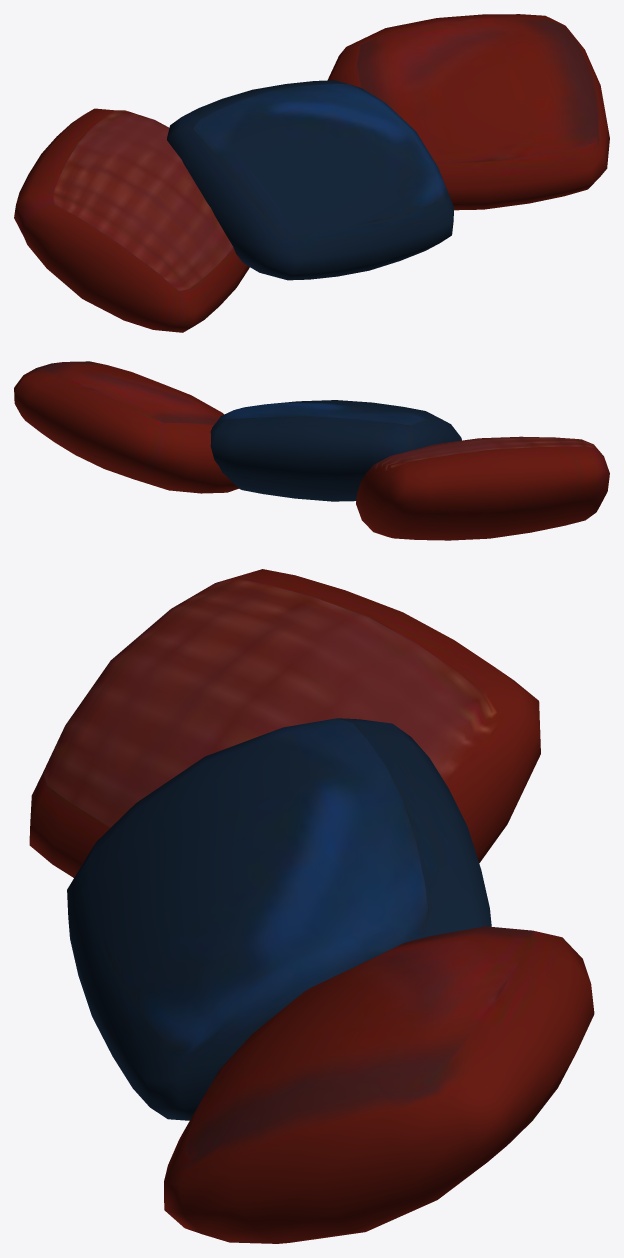
The model's file is phillows.glb.
3 renders of one model, top to bottom at view 1: azimuth 30°, elevation 25°; view 2: azimuth 150°, elevation 25°; view 3: azimuth 270°, elevation 25°, orthographic. The views are drawn at different scales.
Parts seen in each view (by area): view 1: pillow_below.001; view 2: pillow_below.001; view 3: pillow_below.001.
Boxes of the visible parts, x1=… form: pillow_below.001: x1=14, y1=14, x2=609, y2=332; pillow_below.001: x1=14, y1=361, x2=609, y2=540; pillow_below.001: x1=29, y1=569, x2=594, y2=1243.
Bounding box in the file's own units: 1.12 × 0.2447 × 0.507.
1 material, 1 textured.
